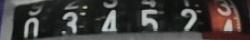digits: (139, 6, 161, 33), (179, 7, 199, 32), (22, 14, 41, 39), (61, 9, 79, 35), (100, 8, 119, 32), (210, 0, 232, 18)
